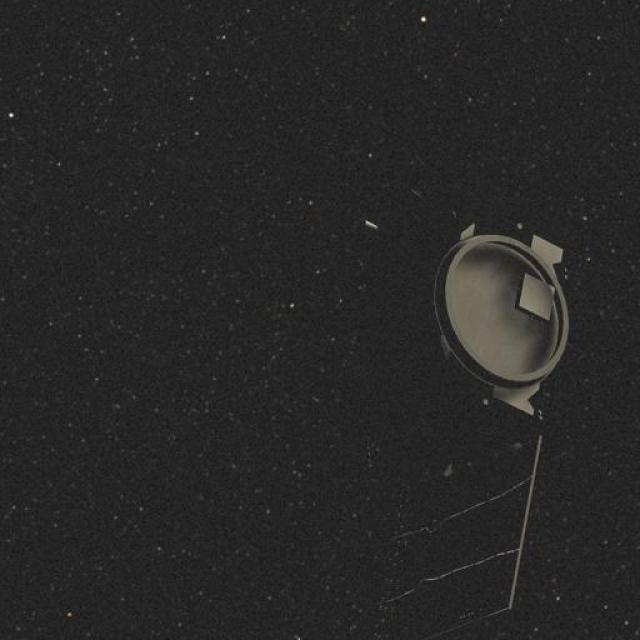proba_3_csc: (344, 164, 592, 640)
